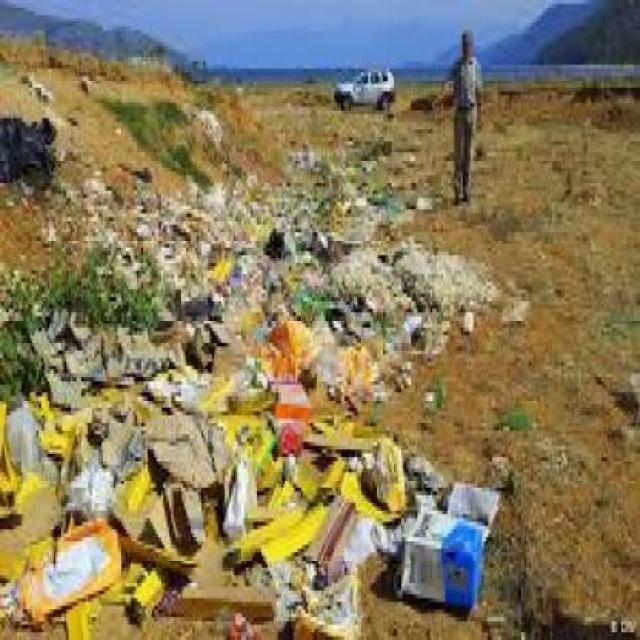garbage: (6, 129, 438, 636), (437, 454, 516, 618), (442, 240, 543, 362)
